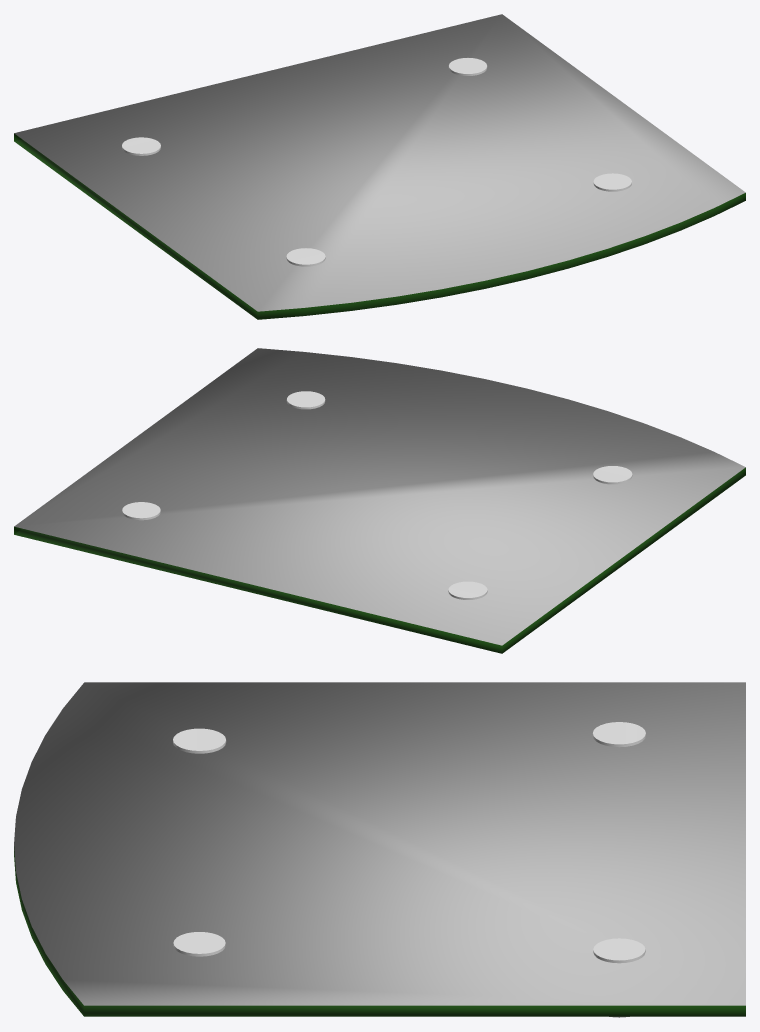
3 renders of one model, top to bottom at view 1: azimuth 30°, elevation 25°; view 2: azimuth 150°, elevation 25°; view 3: azimuth 270°, elevation 25°, orthographic. The views are drawn at different scales.
Parts seen in each view (by area): view 1: Mesh2 Group2 Model, Mesh4 Group4 Model, Mesh3 Group3 Model, Mesh1 Group1 Model; view 2: Mesh2 Group2 Model, Mesh4 Group4 Model, Mesh3 Group3 Model, Mesh1 Group1 Model; view 3: Mesh2 Group2 Model, Mesh4 Group4 Model, Mesh1 Group1 Model, Mesh3 Group3 Model.
Boxes of the visible parts, x1,y1,x2,y2 form: Mesh2 Group2 Model: [14, 14, 745, 319]; Mesh4 Group4 Model: [286, 173, 631, 266]; Mesh3 Group3 Model: [122, 137, 160, 155]; Mesh1 Group1 Model: [448, 58, 487, 75]; Mesh2 Group2 Model: [14, 348, 745, 653]; Mesh4 Group4 Model: [286, 391, 632, 484]; Mesh3 Group3 Model: [448, 581, 487, 599]; Mesh1 Group1 Model: [122, 502, 160, 520]; Mesh2 Group2 Model: [14, 682, 745, 1016]; Mesh4 Group4 Model: [173, 728, 226, 956]; Mesh1 Group1 Model: [593, 938, 645, 1017]; Mesh3 Group3 Model: [592, 722, 645, 747].
Size of the model in its own units: 15.66 by 1.25 by 14.98.
